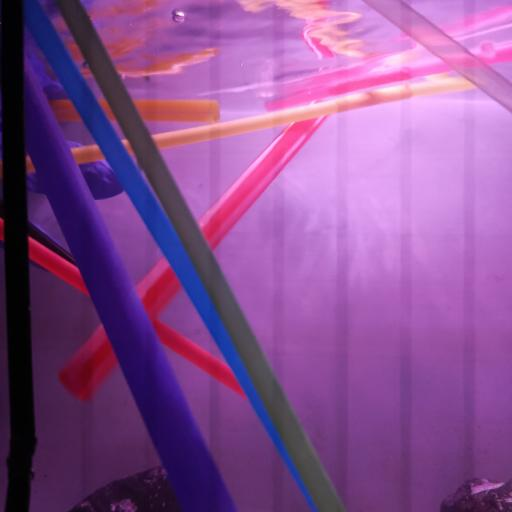plastic_straw: (24, 0, 318, 512), (54, 0, 347, 512), (26, 59, 235, 512), (56, 114, 330, 399), (24, 76, 478, 175), (1, 218, 246, 398), (0, 0, 38, 511), (362, 0, 512, 115), (265, 42, 511, 111), (48, 98, 221, 124), (80, 47, 221, 78)
